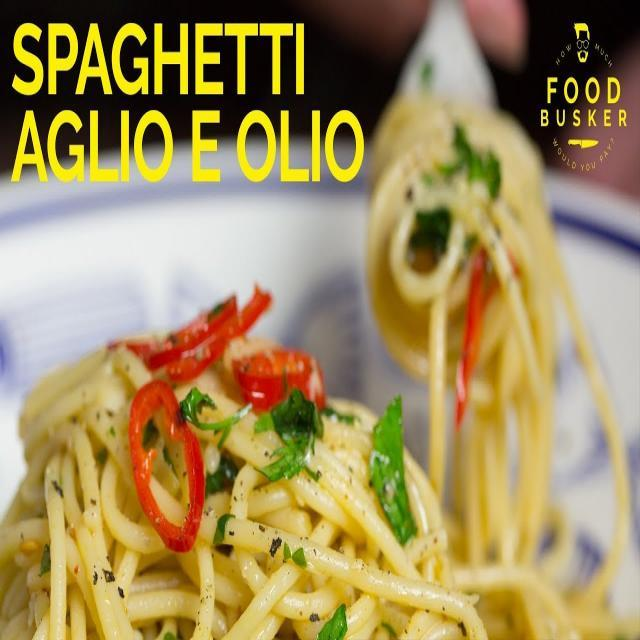Oil pasta: (8, 278, 476, 640)
